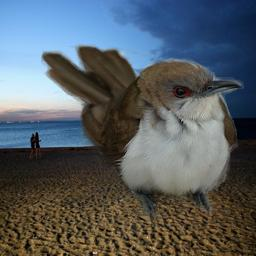Cuckoo: (41, 44, 244, 225)
